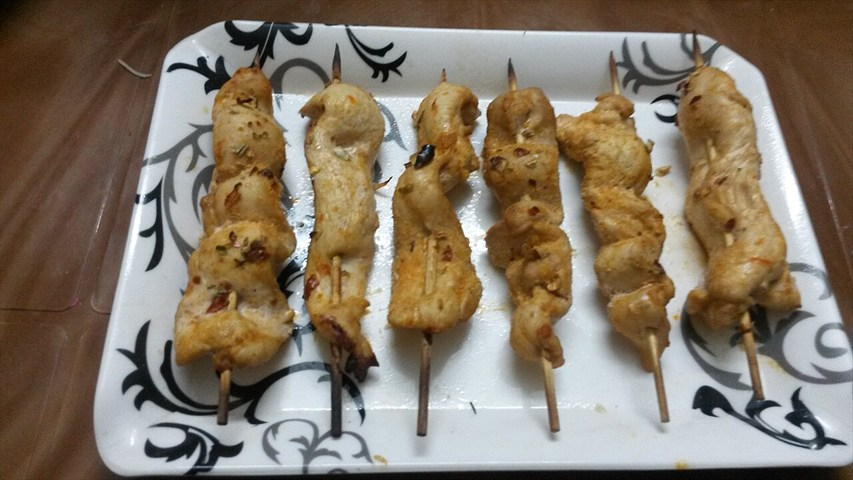Sate Ayam: (109, 43, 830, 469)
